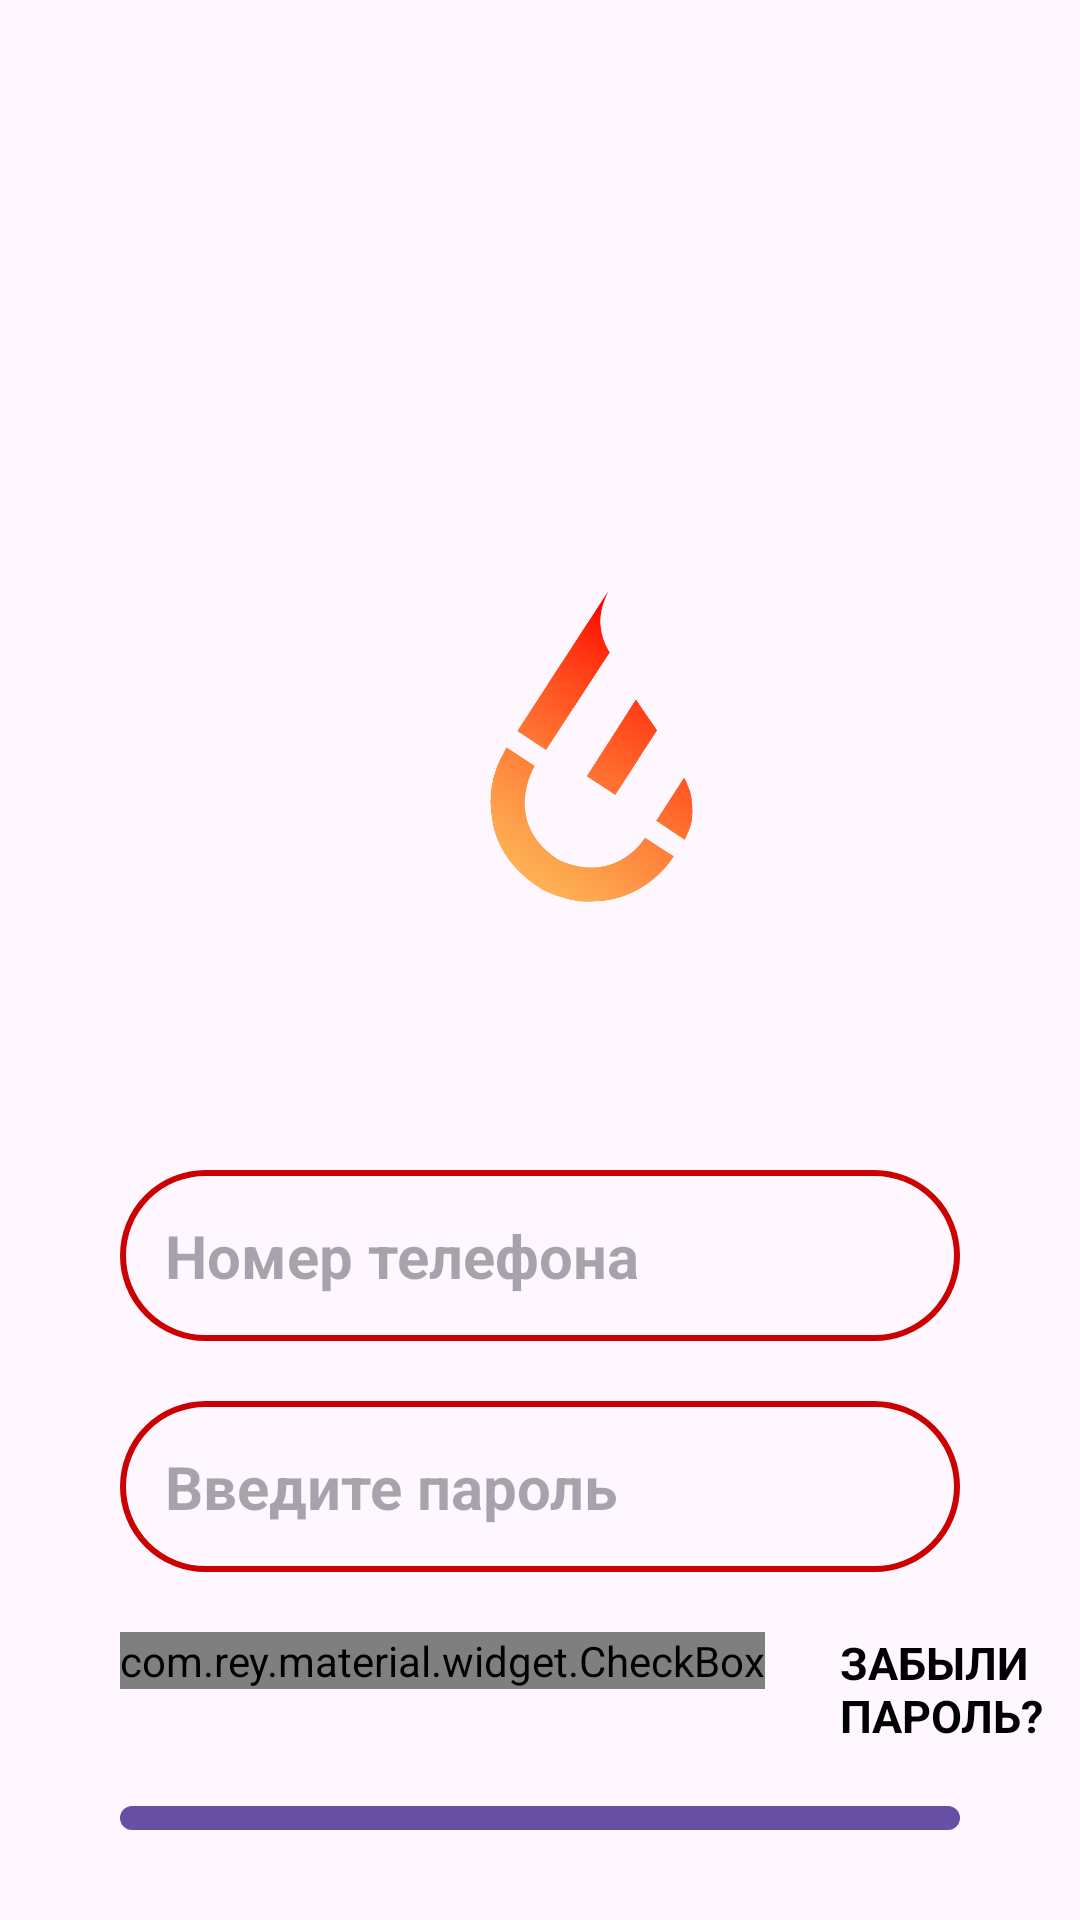

Icon click points for this 1080*1920 phone screenshot, format [x,y]:
login picture: [591,747]
